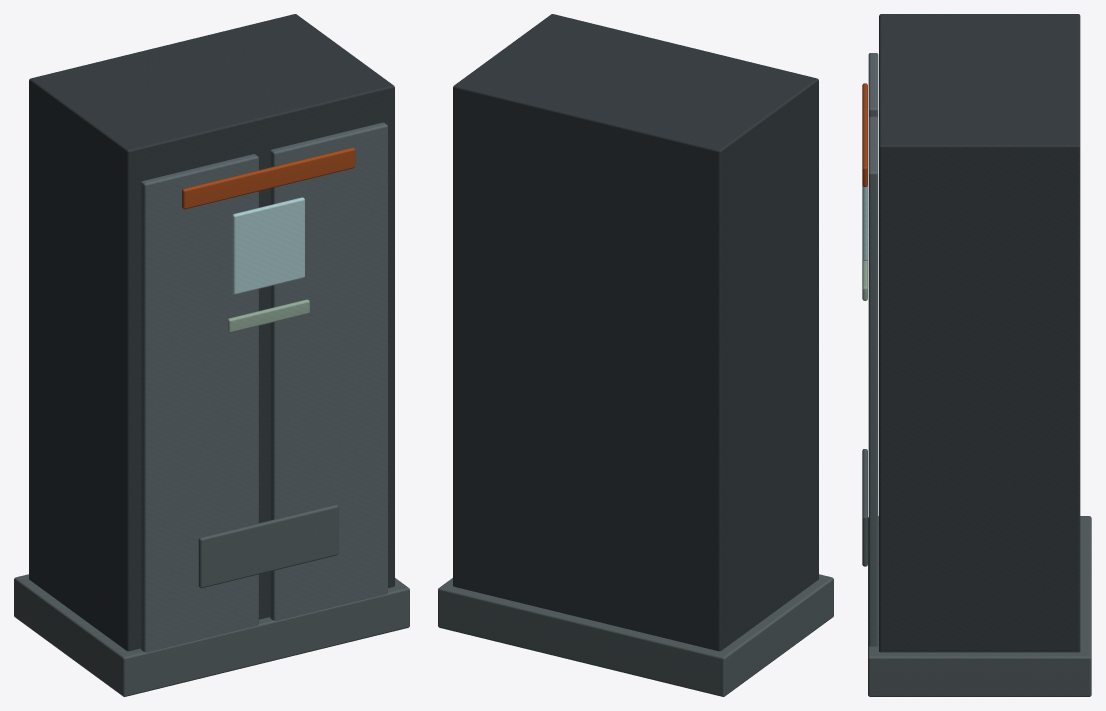
The model's file is HazmatSuitLocker.fbx.
The picture shows the model from 3 angles, left to right: view 1: azimuth 30°, elevation 25°; view 2: azimuth 150°, elevation 25°; view 3: azimuth 270°, elevation 25°; orthographic projection.
Visible parts, largest first — view 1: HazmatSuitLocker_Mesh; view 2: HazmatSuitLocker_Mesh; view 3: HazmatSuitLocker_Mesh.
Part boxes in pixels (left/top/right/bottom): HazmatSuitLocker_Mesh: left=14, top=14, right=409, bottom=696; HazmatSuitLocker_Mesh: left=438, top=14, right=833, bottom=696; HazmatSuitLocker_Mesh: left=862, top=14, right=1091, bottom=696.
Size of the model in its own units: 120 by 216 by 82.
